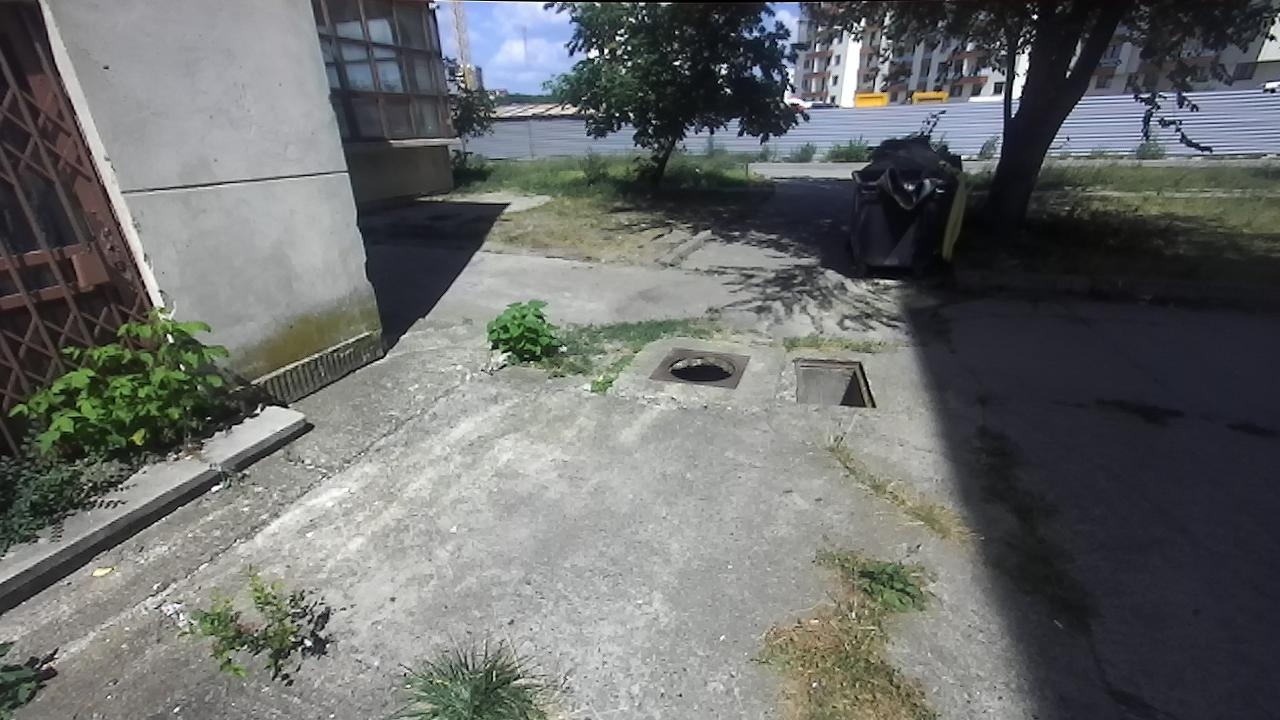drain: (790, 354, 879, 410), (665, 349, 740, 386)
